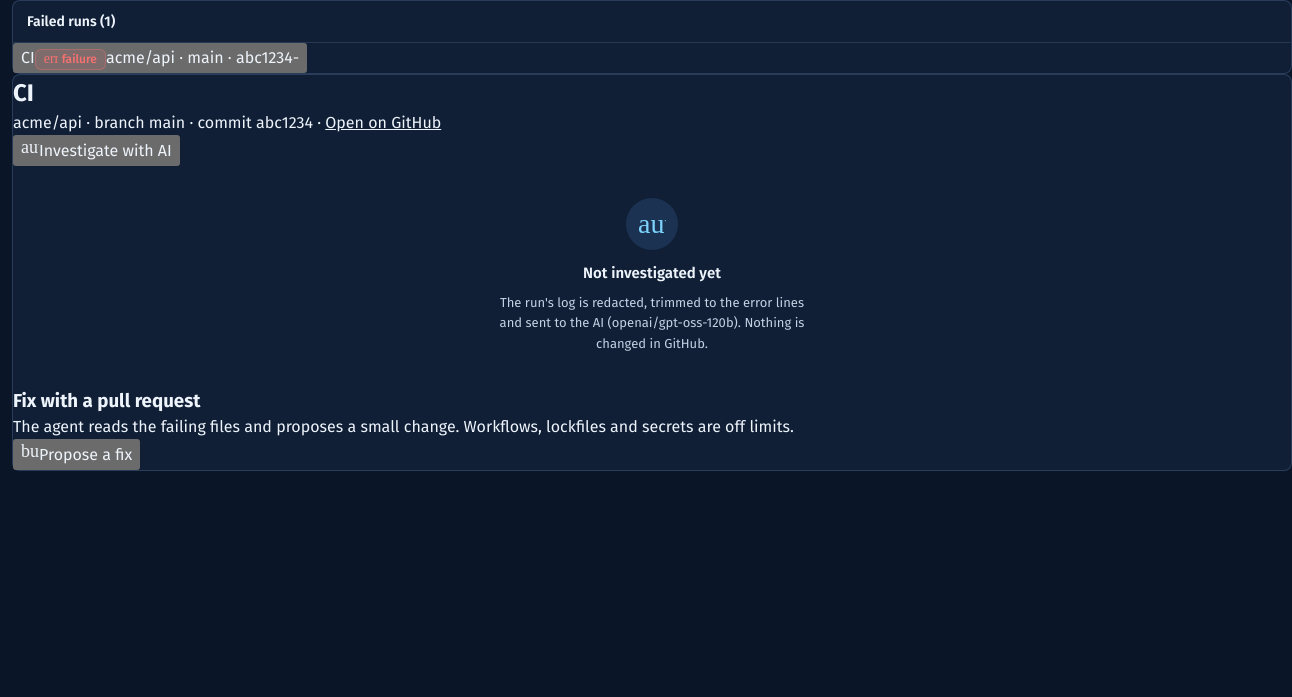
it: CopilotView › investigates a failed run and shows the checked diagnosis with a request-for-approval button
The width and height of the screenshot is (1292, 697).
Expected: the text "Not investigated yet" is shown, [583, 262, 721, 284]
Step 1. Click the button "Investigate with AI" → (96, 150), box [13, 135, 180, 166]
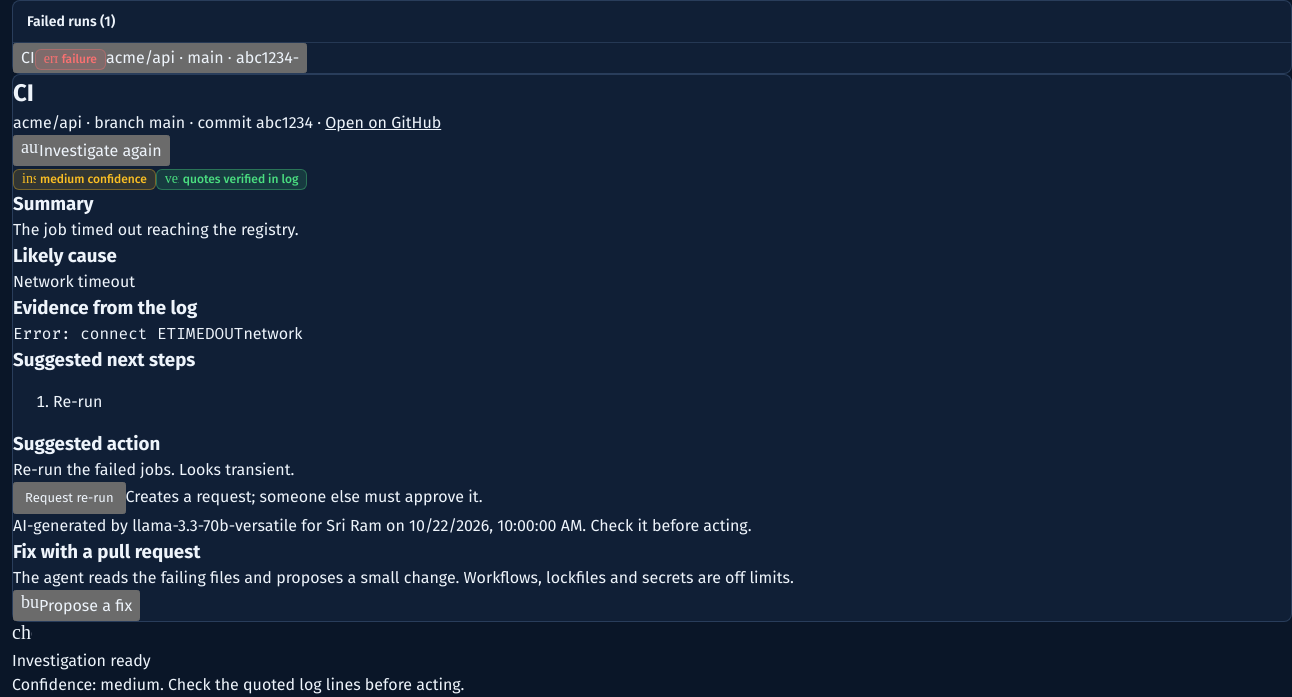
Now the text "Error: connect ETIMEDOUT" is shown, box [13, 323, 243, 344]
Now the text "medium confidence" is shown, box [13, 168, 156, 190]
Now the text "quotes verified in log" is shown, box [156, 168, 307, 190]
